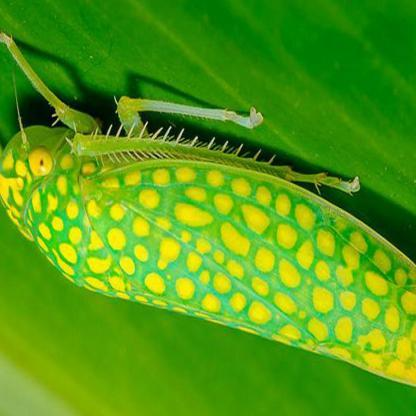green-leafhopper: (2, 115, 416, 381)
